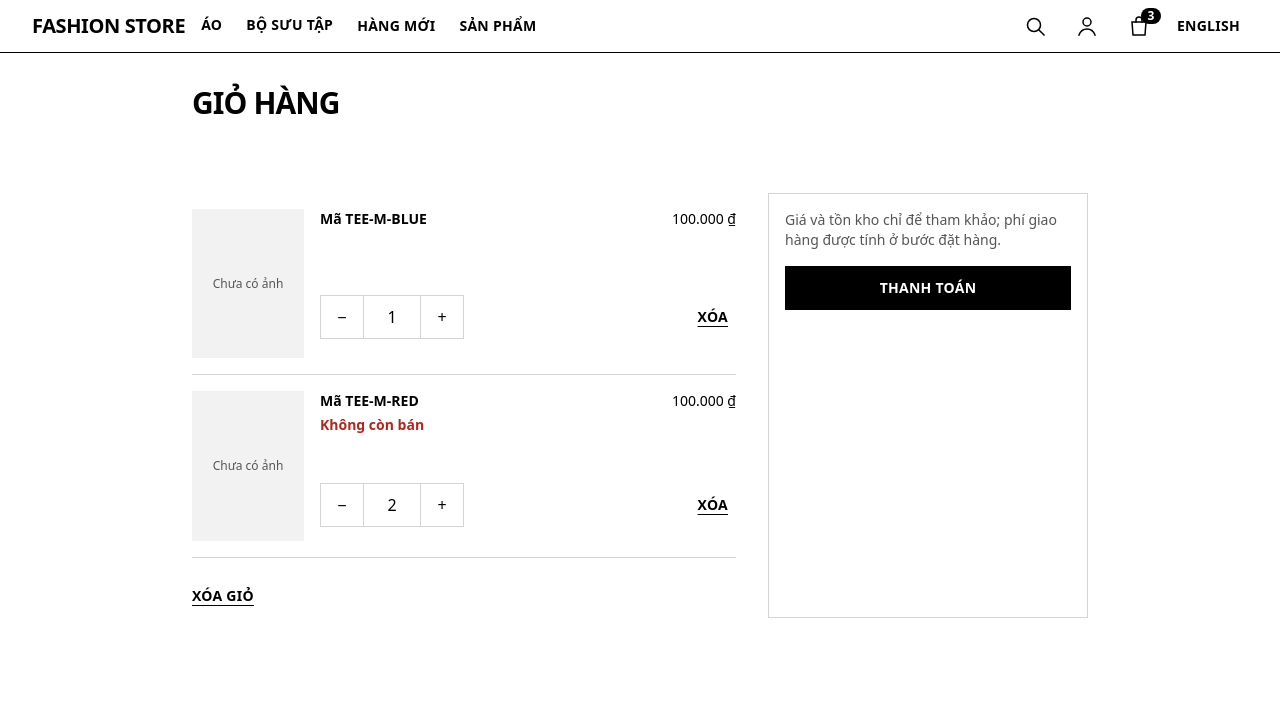
Test case: quantity changes are sent once after 400 ms
Click the button "+" below "TEE-M-BLUE". click: (442, 317)
box: x1=420 y1=295 x2=464 y2=339
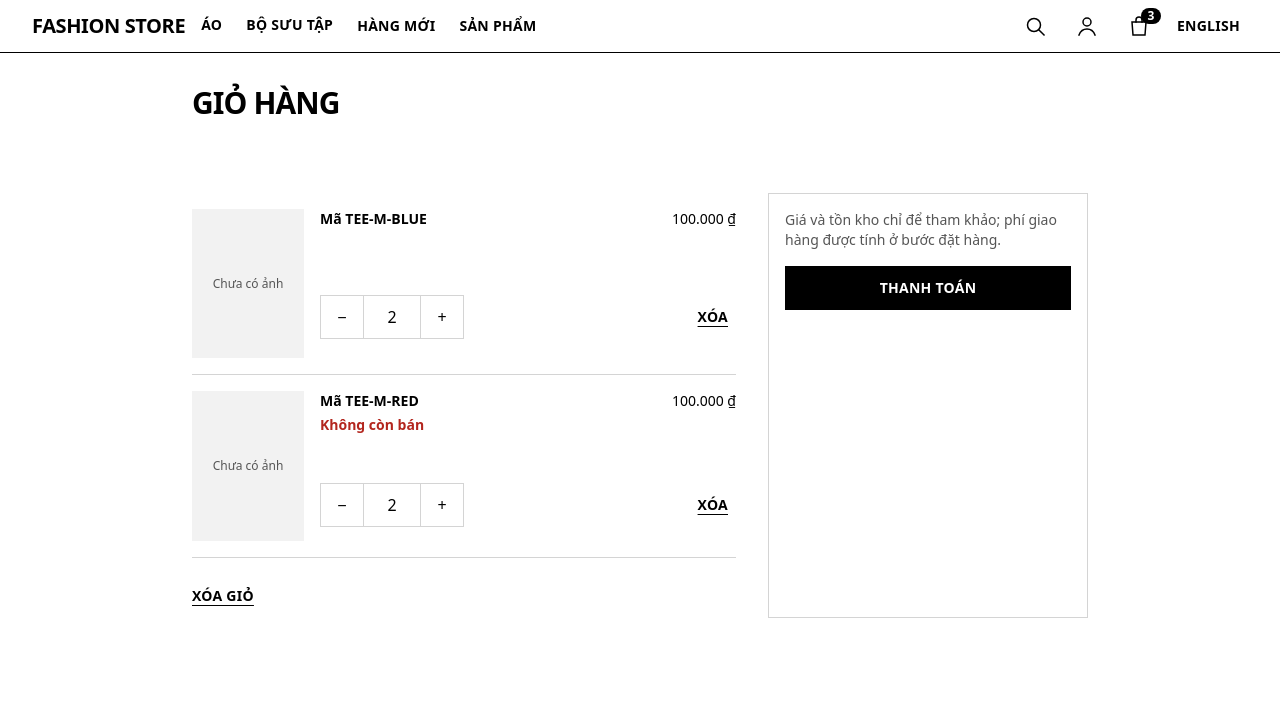
Click the button "+" below "TEE-M-BLUE". click: (442, 317)
box: x1=420 y1=295 x2=464 y2=339
Wait 400 ms
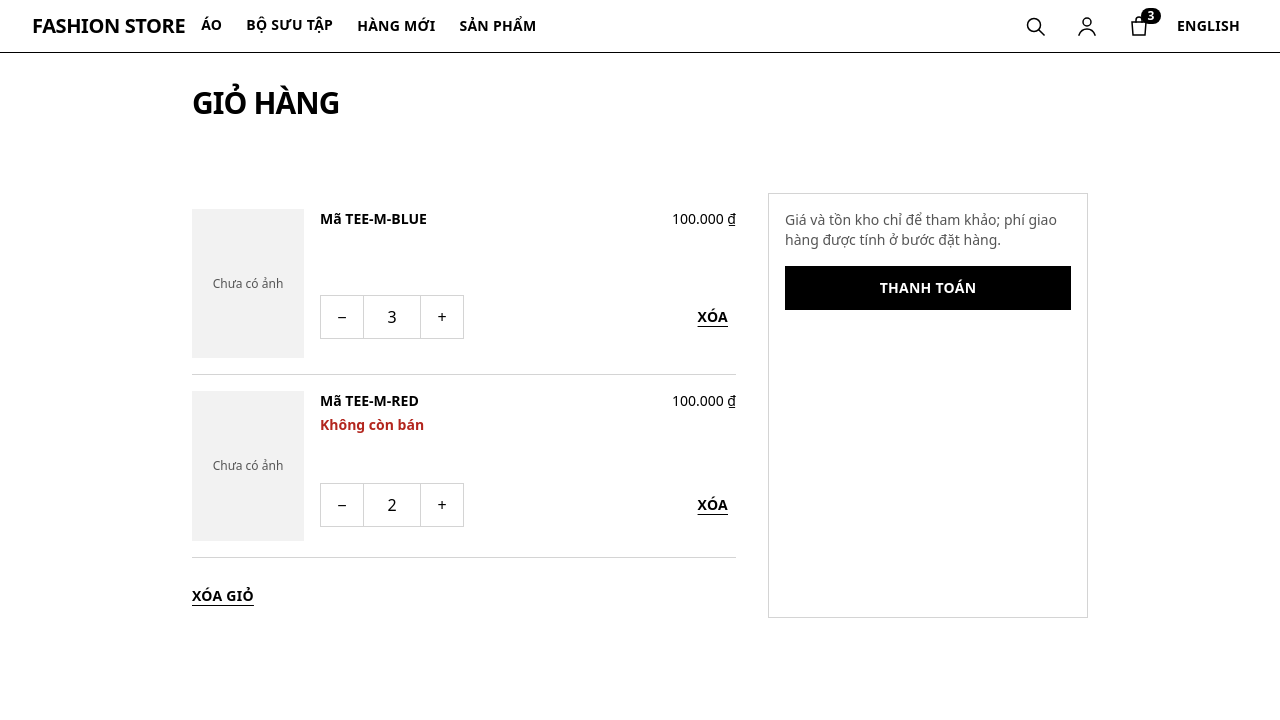
Now the field below "TEE-M-BLUE" holds "3", box x1=364 y1=295 x2=420 y2=339
